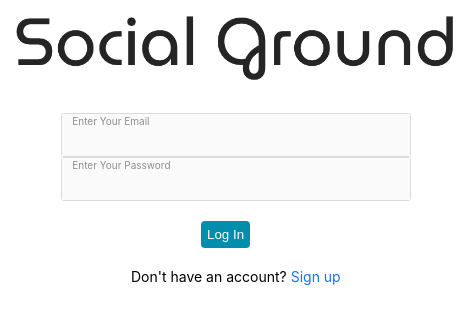
Scenario: Test that we can follow a user › see if login contains elements
(page scrolled)
# click on the Sign In button
Click the button "Log In" at coordinates (226, 235), box 201,221 -> 250,248
(page scrolled)
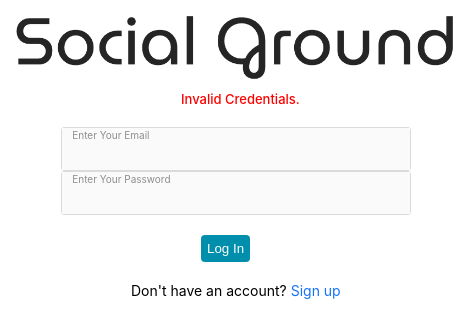
Expected: the button "Log In" is shown, 201,235 -> 250,262
Expected: the text "Invalid Credentials." is shown, 181,91 -> 300,107
